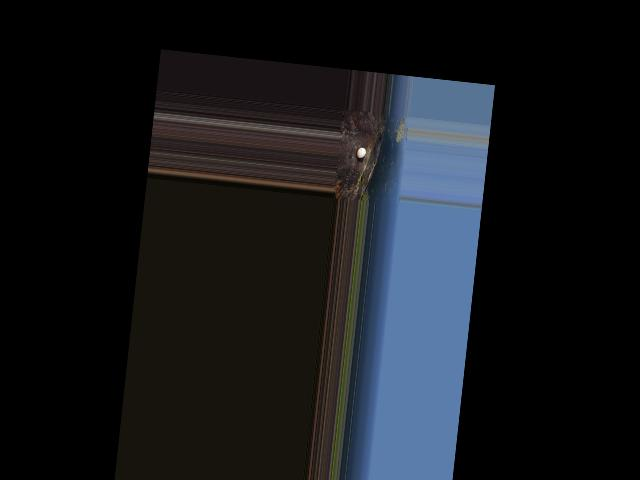egg: (356, 146, 366, 158)
